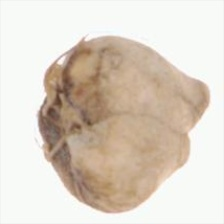L3: (179, 80, 212, 163)
L4: (39, 36, 212, 214)
